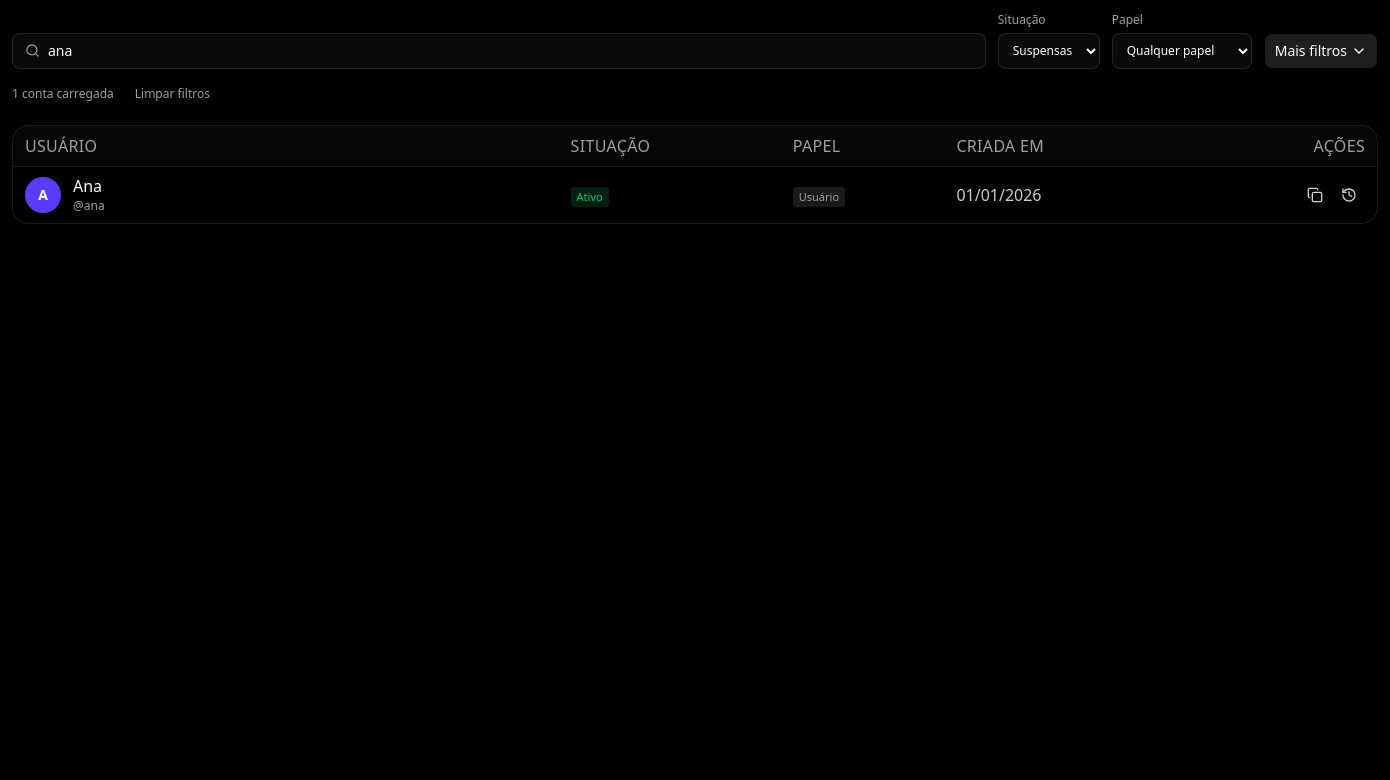
it: back from a detail › returns to the exact query the admin came from
The width and height of the screenshot is (1390, 780).
Click the link "A Ana @ana": (43, 195) [25,175,105,214]
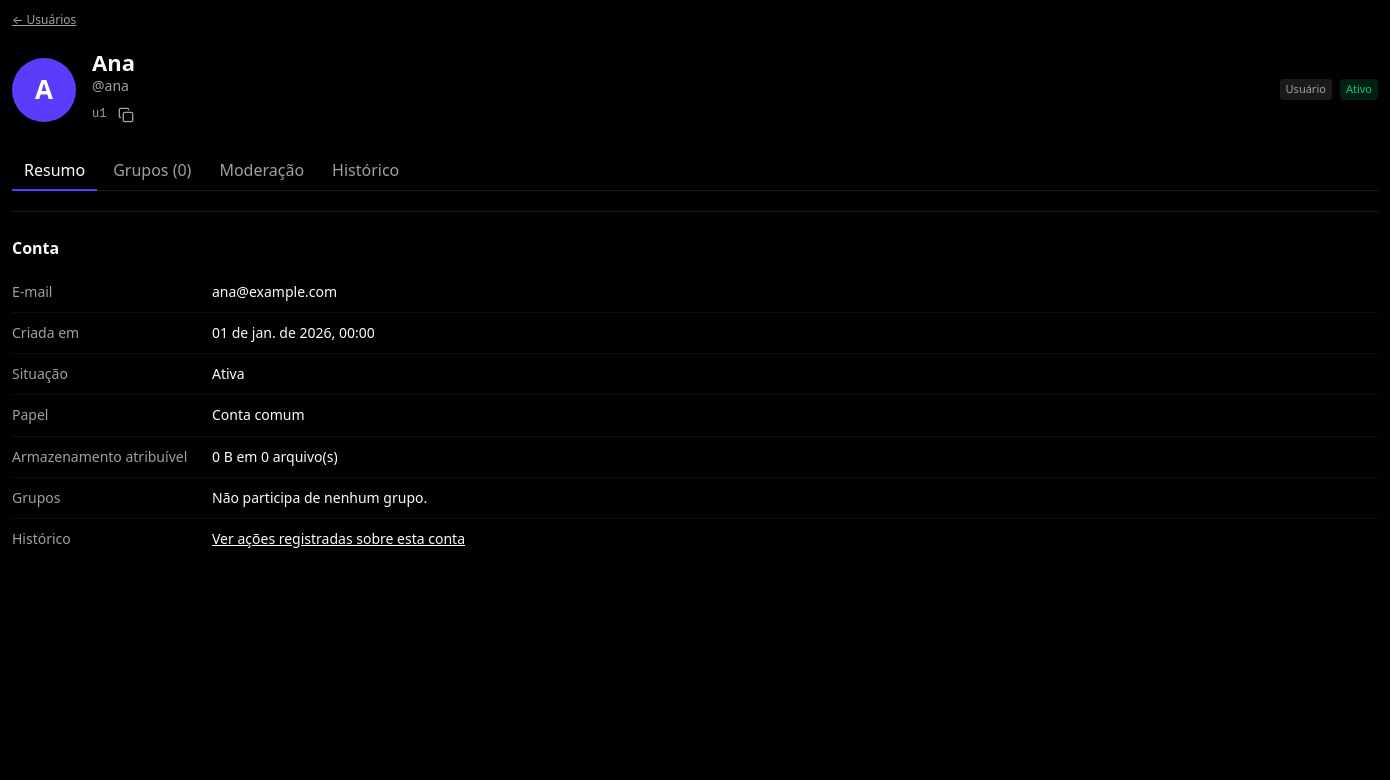
Now the text "ana@example.com" is shown, box [212,282,337,301]
